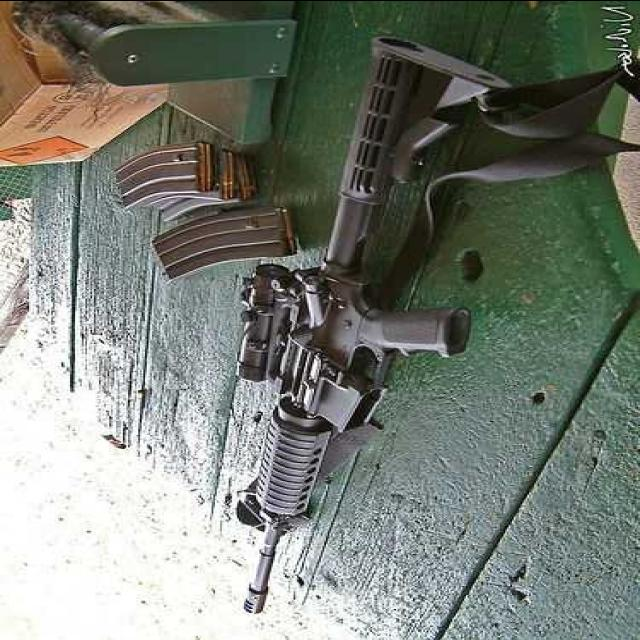heavyweapon: (192, 20, 566, 640)
